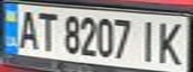0: (96, 15, 115, 58)
2: (78, 12, 100, 57)
7: (112, 16, 136, 61)
8: (60, 11, 81, 55)
A: (12, 7, 42, 51)
I: (136, 17, 163, 64)
K: (154, 18, 190, 66)
T: (33, 8, 60, 52)
